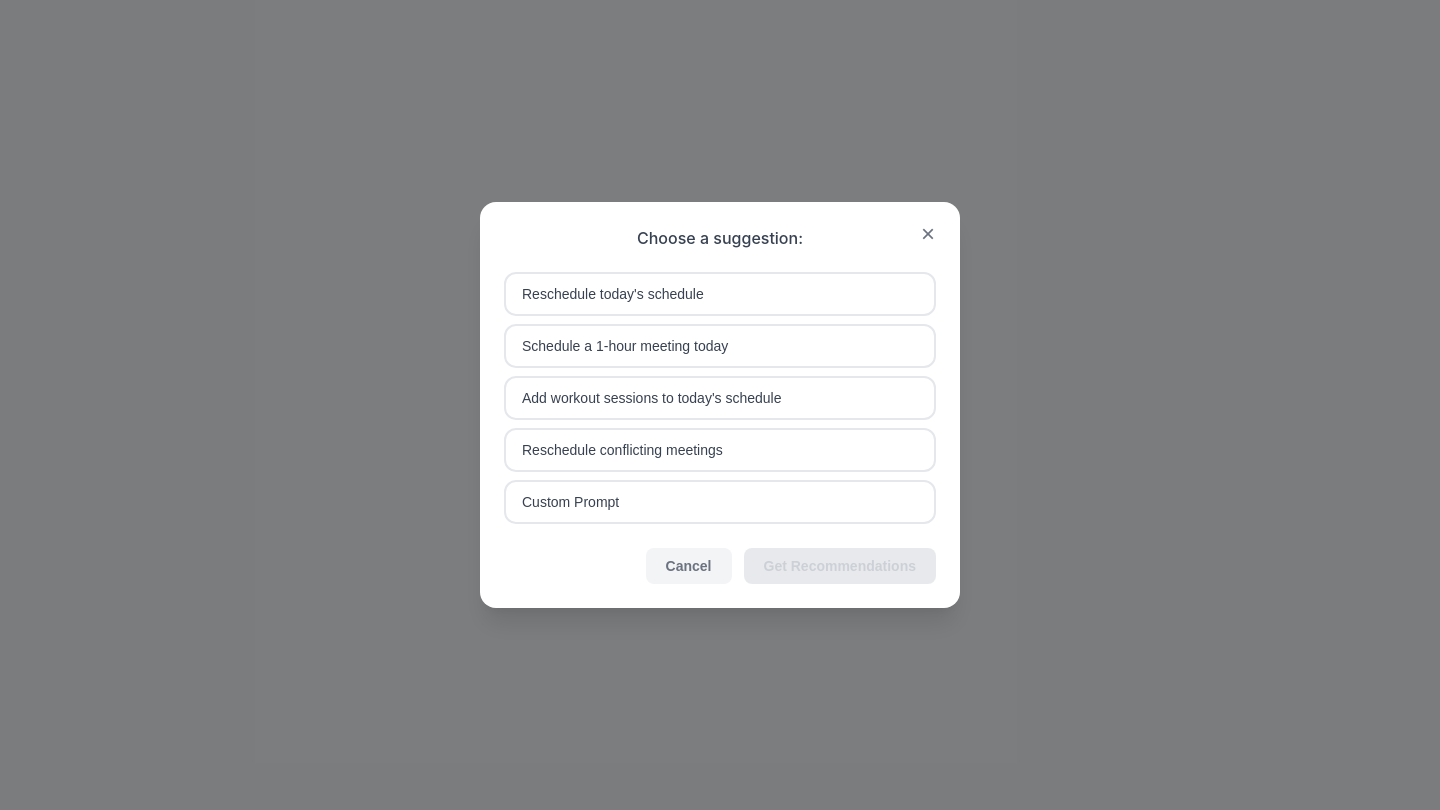
it: ScheduleRecommendationsModal › Time Preferences › allows toggling category expansion
The image size is (1440, 810).
Click the button "Reschedule today's schedule": (613, 294) [504,272,936,316]
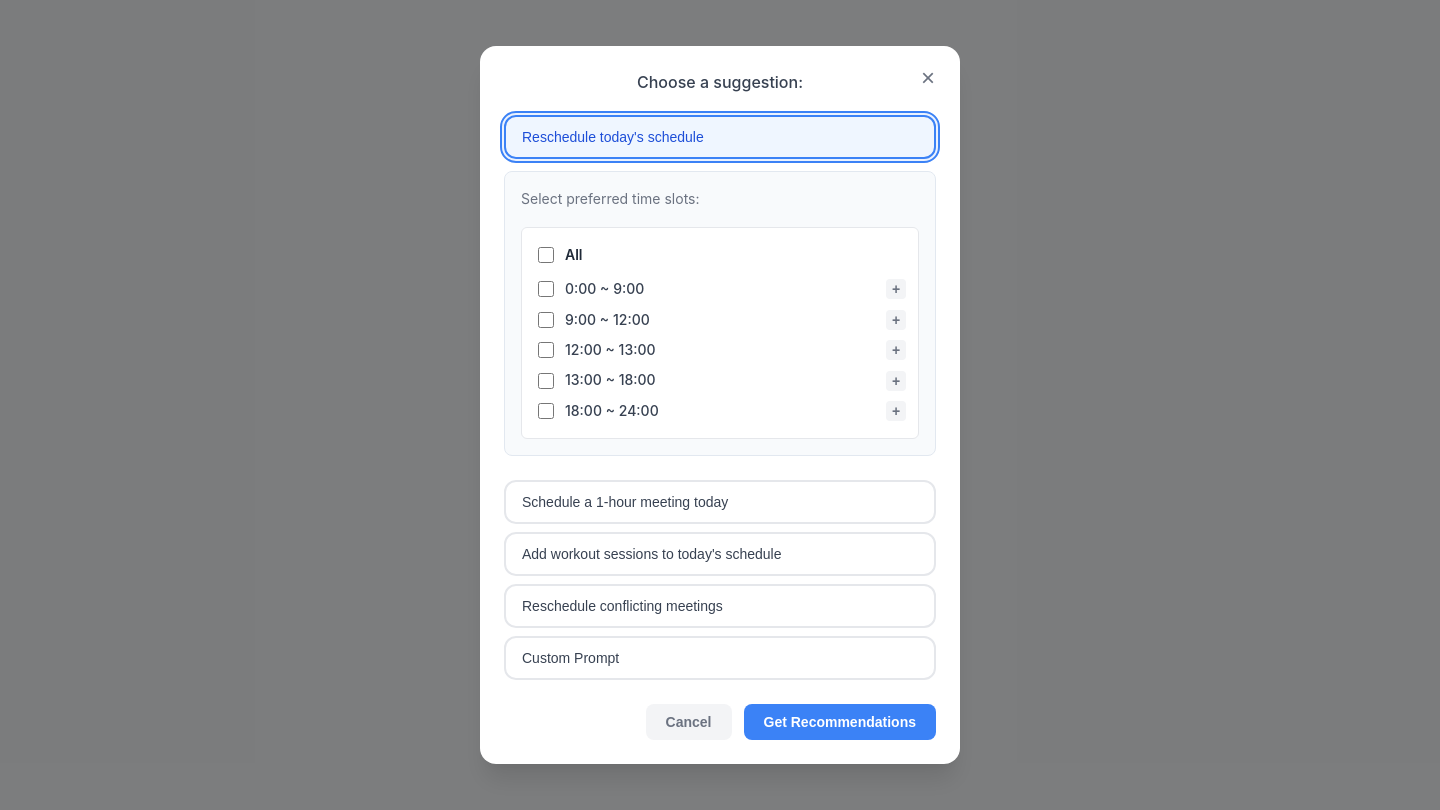
Now the button with class "toggle-button" in the row of "9:00 ~ 12:00" reads "+"
Click the button with class "toggle-button" in the row of "9:00 ~ 12:00": (896, 320) [886,310,906,330]
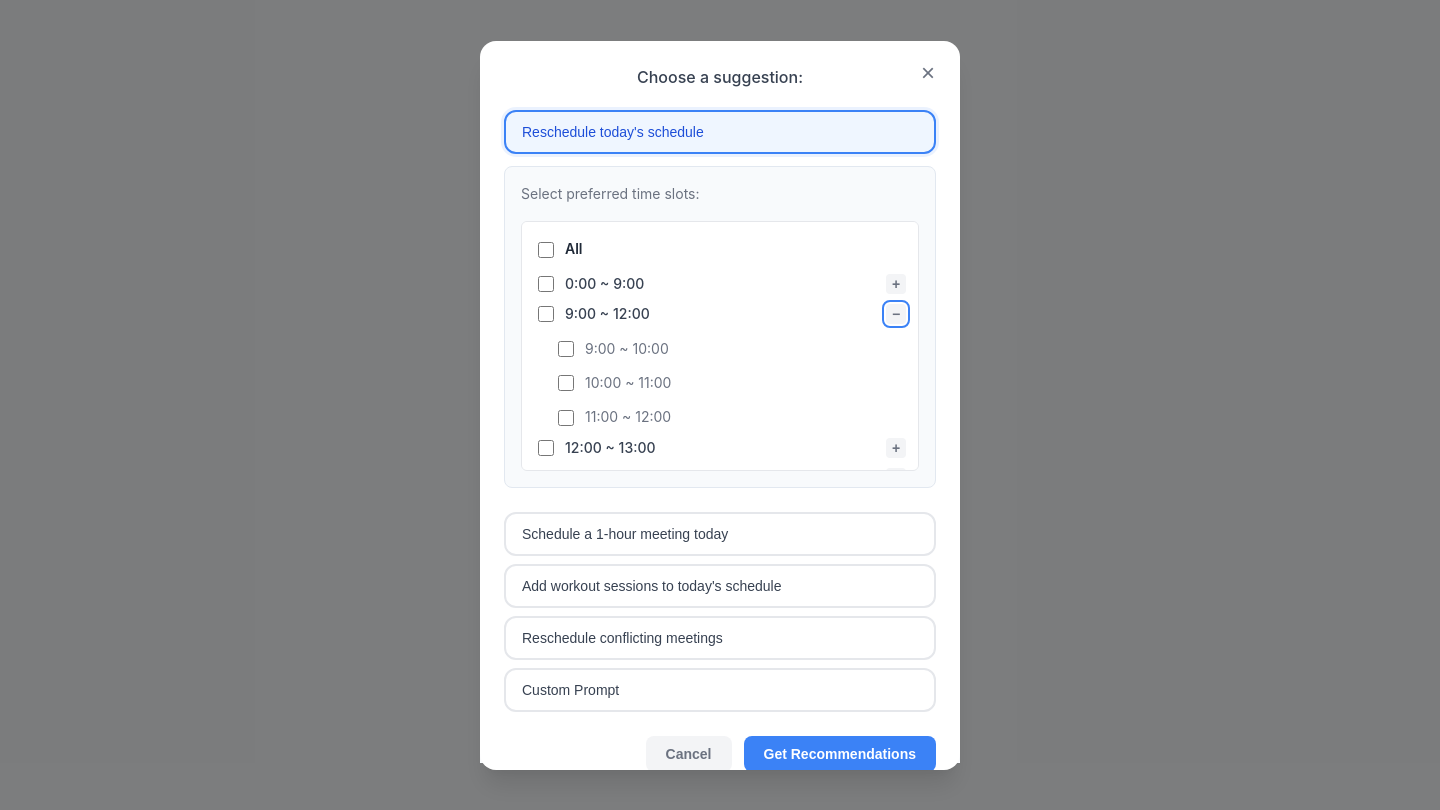
Now the button with class "toggle-button" reads "−", box [886,304,906,324]
Now the text "9:00 ~ 10:00" is shown, box [585,338,669,360]
Now the text "10:00 ~ 11:00" is shown, box [585,372,672,394]
